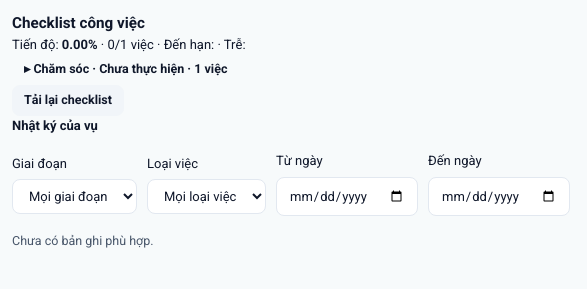
AH-88 checklist › Đại diện không có ô tích dù dữ liệu cũ còn cờ cho ghi
The width and height of the screenshot is (587, 289).
Click the button "▸ Chăm sóc · Chưa thực hiện · 1 việc": (126, 70) [12,54,240,85]
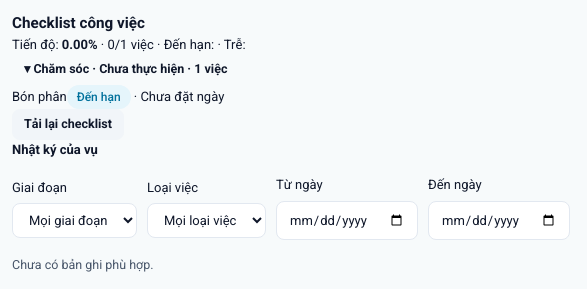
Result: the text "Bón phân" is shown at [12,89,67,104]
